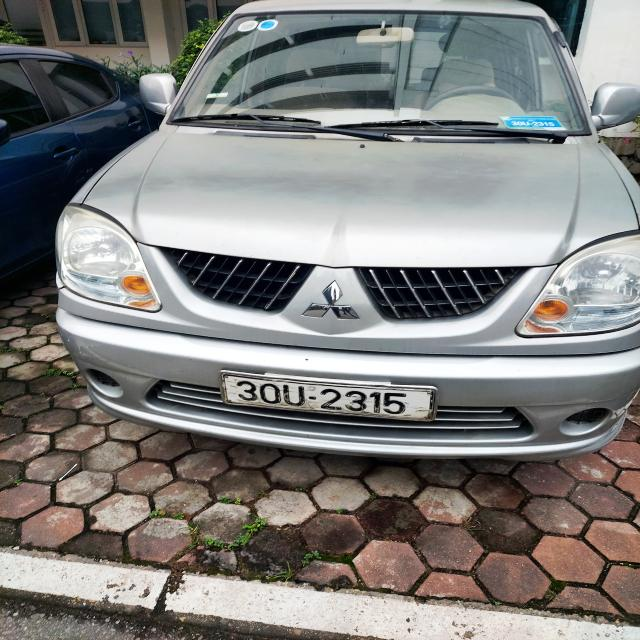license_plate: (223, 373, 439, 420)
